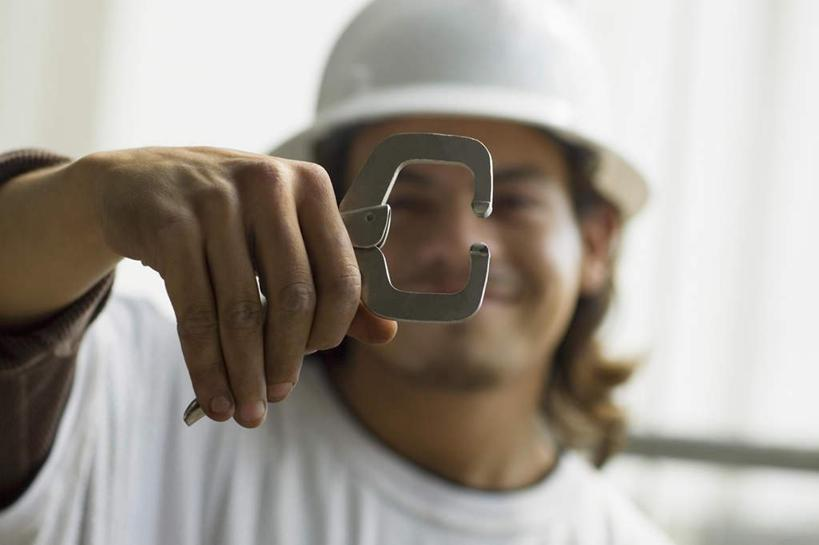helmet: (266, 1, 652, 226)
